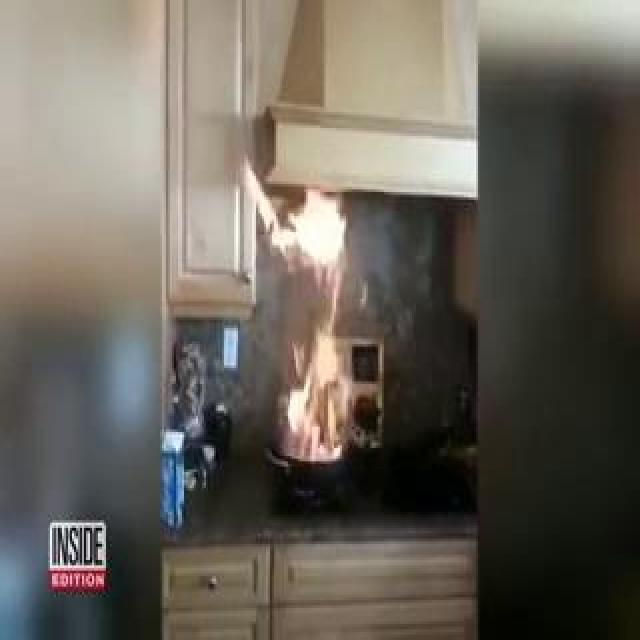Fire: (273, 238, 363, 471)
